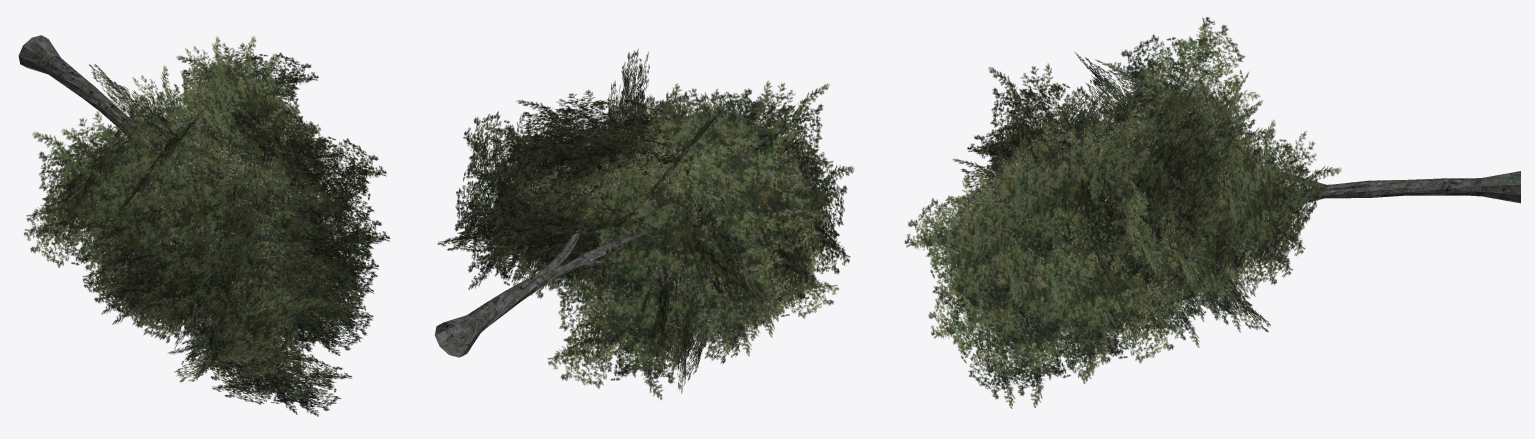
Rendered from test_tree_3.gltf.
3 renders of one model, left to right at view 1: azimuth 30°, elevation 25°; view 2: azimuth 150°, elevation 25°; view 3: azimuth 270°, elevation 25°, orthographic. The views are drawn at different scales.
Parts seen in each view (by area): view 1: Mesh61__2_0; view 2: Mesh61__2_0; view 3: Mesh61__2_0.
Part boxes in pixels (box(x1,y1,x2,y2)): Mesh61__2_0: box(18, 35, 390, 416); Mesh61__2_0: box(434, 48, 854, 399); Mesh61__2_0: box(904, 17, 1520, 408).
Size of the model in its own units: 6.58 by 6.1 by 10.3.
Materials: 2 (2 with a texture image).
